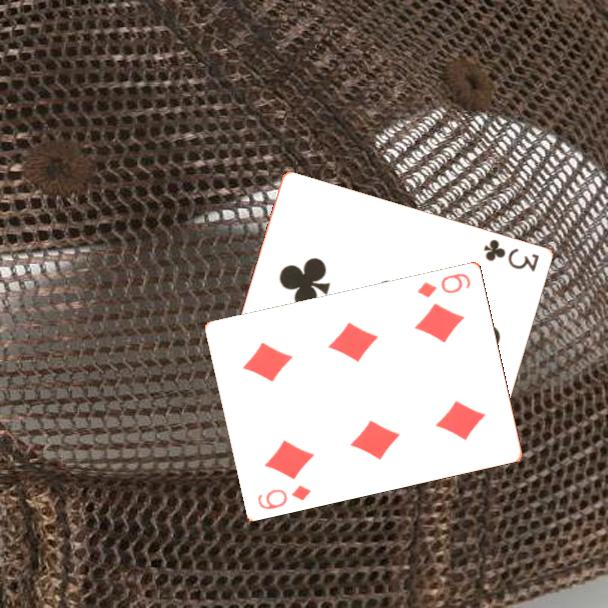c03: (480, 236, 542, 274)
d06: (414, 269, 474, 300), (254, 481, 314, 512)
